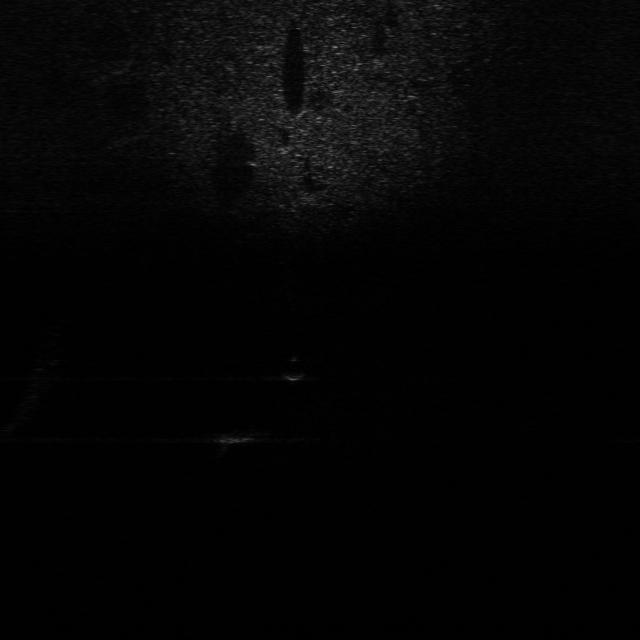ball: (278, 353, 312, 380)
square cage: (210, 423, 270, 449)
